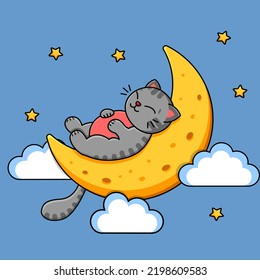cat: (45, 76, 183, 161)
cloud: (176, 142, 260, 191), (89, 191, 165, 235)
